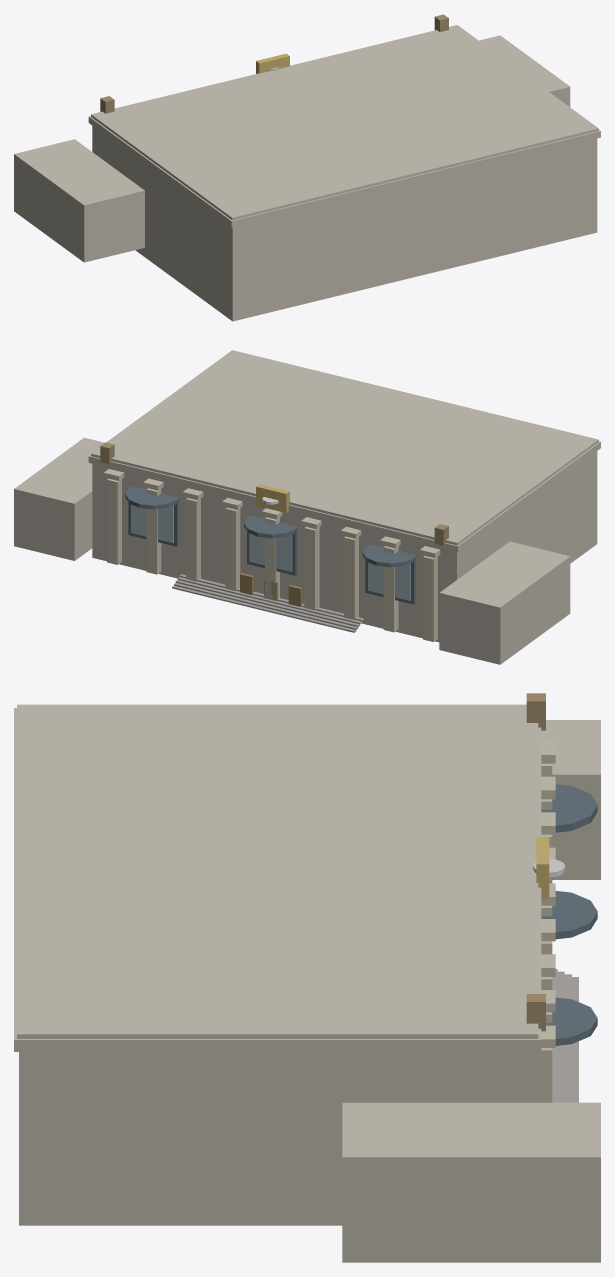
Rendered from grandcentral.glb.
The picture shows the model from 3 angles, top to bottom: view 1: azimuth 30°, elevation 25°; view 2: azimuth 150°, elevation 25°; view 3: azimuth 270°, elevation 25°; orthographic projection. The views are drawn at different scales.
Visible parts, largest first — view 1: Mesh; view 2: Mesh; view 3: Mesh.
Boxes of the visible parts, bbox=[...] form: Mesh: bbox=[14, 14, 600, 321]; Mesh: bbox=[14, 350, 600, 664]; Mesh: bbox=[14, 693, 600, 1262].
Size of the model in its own units: 160 by 36.5 by 90.75.
